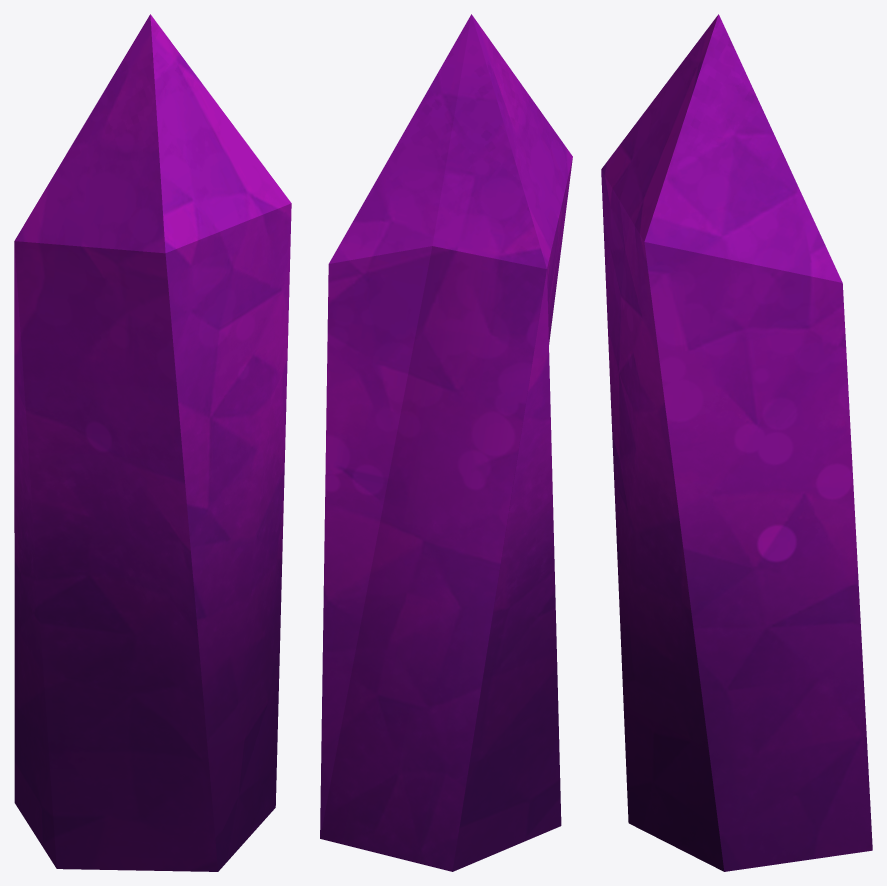
Rendered from P_CRYSTAL FRAGMENT 2.fbx.
3 renders of one model, left to right at view 1: azimuth 30°, elevation 25°; view 2: azimuth 150°, elevation 25°; view 3: azimuth 270°, elevation 25°, orthographic. The views are drawn at different scales.
Parts seen in each view (by area): view 1: Crystal Fragment_2; view 2: Crystal Fragment_2; view 3: Crystal Fragment_2.
Part boxes in pixels (bbox=[...]): Crystal Fragment_2: bbox=[14, 14, 291, 871]; Crystal Fragment_2: bbox=[320, 14, 572, 871]; Crystal Fragment_2: bbox=[601, 14, 872, 871].
Bounding box in the file's own units: 92.83 × 313 × 95.94.
